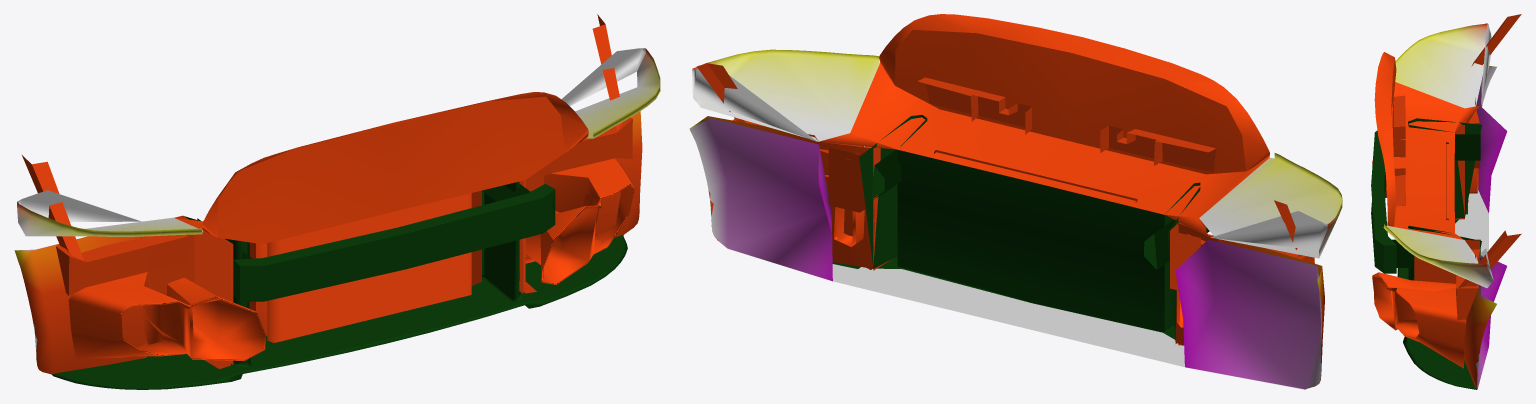
File: Car_Mini_CountrymanJCW_2017_BumperChassisF_SetA.fbx
The picture shows the model from 3 angles, left to right: view 1: azimuth 30°, elevation 25°; view 2: azimuth 150°, elevation 25°; view 3: azimuth 270°, elevation 25°; orthographic projection. The views are drawn at different scales.
Parts seen in each view (by area): view 1: BumperChassisF 6; view 2: BumperChassisF 6; view 3: BumperChassisF 6.
Boxes of the visible parts, <box> form: BumperChassisF 6: <box>14,14,660,389</box>; BumperChassisF 6: <box>689,14,1342,389</box>; BumperChassisF 6: <box>1371,14,1521,389</box>.
Bounding box in the file's own units: 1.74 × 0.6196 × 0.4614.
